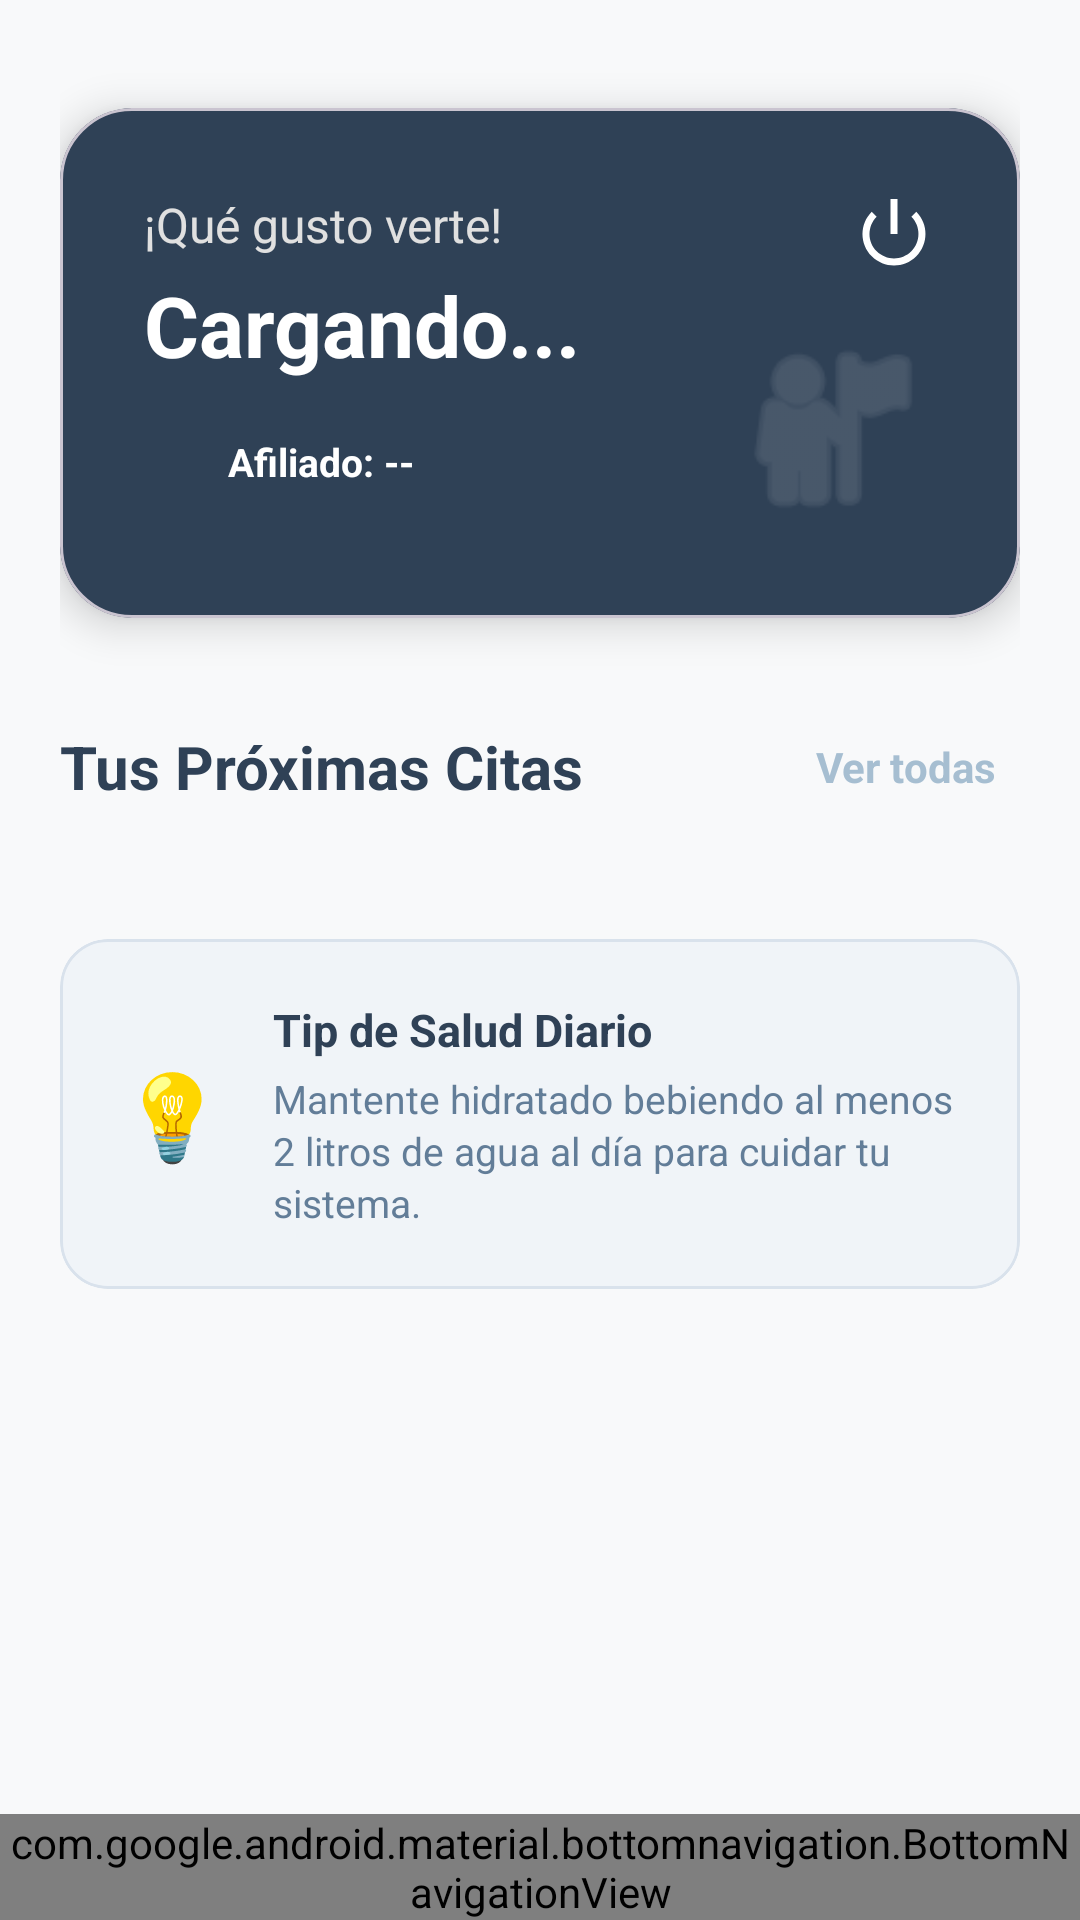

Point at icon controls on the screen. Image size 1080x1920, points as (x,y).
lock power off: (894,232)
